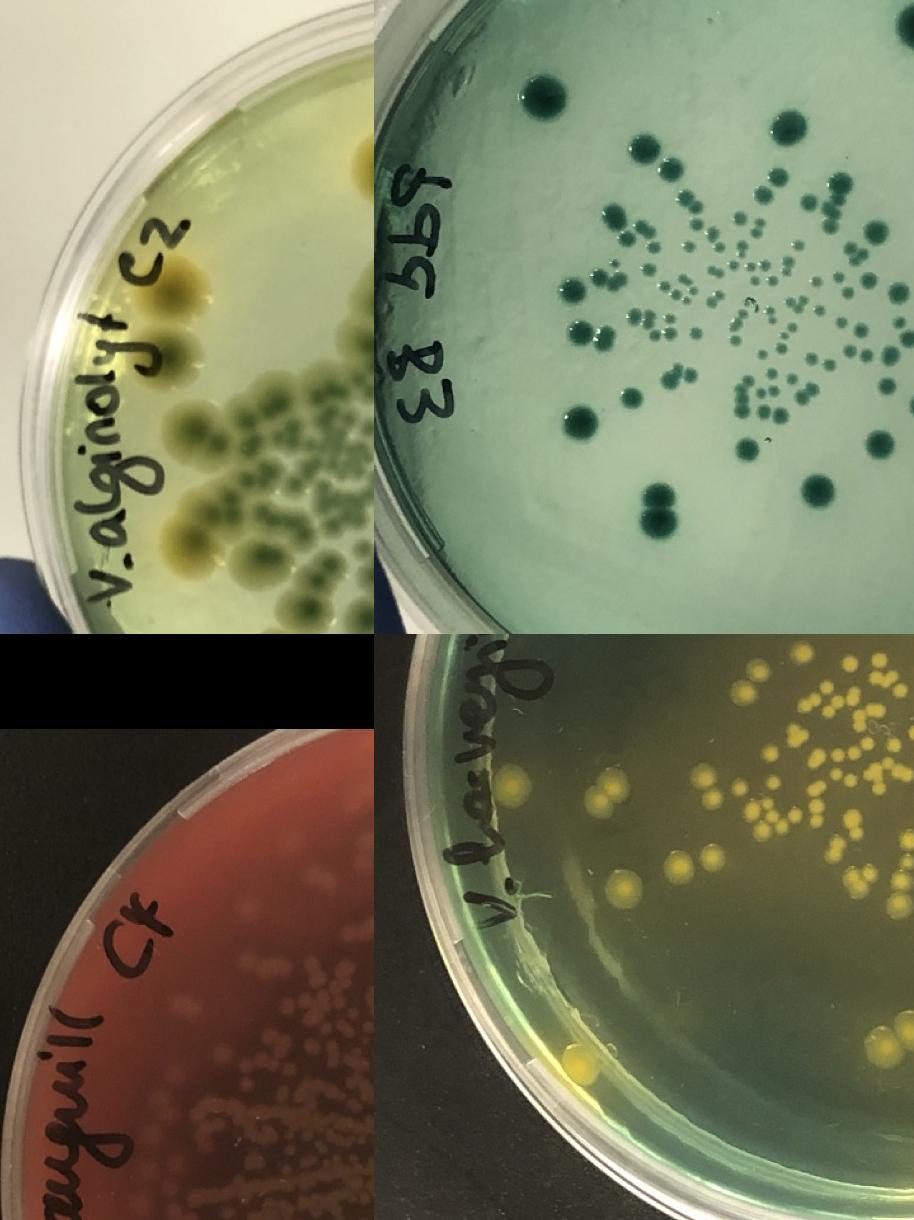pddamselae: (639, 480, 675, 538), (522, 78, 564, 118), (798, 189, 844, 222), (863, 425, 899, 459), (800, 473, 836, 507), (771, 110, 807, 144), (628, 130, 664, 164), (562, 406, 598, 440), (732, 373, 755, 416), (674, 186, 703, 214), (828, 172, 852, 205), (897, 2, 914, 46), (776, 321, 799, 353), (864, 220, 888, 242), (750, 183, 774, 205), (796, 382, 820, 403), (888, 282, 910, 304), (880, 344, 902, 366), (876, 375, 898, 397), (858, 266, 880, 288), (768, 165, 790, 187), (736, 440, 758, 462), (660, 159, 682, 181), (620, 386, 642, 408), (602, 203, 624, 225), (593, 328, 615, 350), (568, 322, 590, 344), (562, 280, 584, 302), (784, 294, 810, 312), (669, 287, 692, 306), (706, 288, 726, 308), (634, 218, 654, 238), (848, 248, 870, 266), (731, 307, 749, 328), (897, 327, 914, 349), (604, 272, 627, 288), (746, 257, 770, 272), (750, 217, 766, 238), (706, 264, 728, 279), (780, 255, 794, 276), (618, 230, 636, 246), (642, 309, 656, 329), (906, 389, 914, 423), (764, 305, 778, 324), (736, 238, 748, 257), (892, 316, 906, 328), (860, 349, 874, 361), (842, 344, 856, 356), (774, 409, 788, 421), (764, 275, 778, 287), (764, 367, 778, 379), (756, 406, 770, 418), (706, 227, 720, 239), (688, 219, 702, 231), (682, 370, 696, 382), (664, 373, 678, 385), (855, 325, 867, 337), (844, 240, 856, 252), (842, 287, 854, 299), (834, 315, 846, 327), (832, 270, 844, 282), (823, 358, 835, 370), (814, 304, 826, 316), (809, 274, 821, 286), (805, 352, 817, 364), (792, 239, 804, 251), (786, 373, 798, 385), (768, 385, 780, 397), (756, 349, 768, 361), (754, 387, 766, 399), (749, 274, 761, 286), (734, 212, 746, 224), (730, 334, 742, 346), (726, 258, 738, 270), (713, 241, 725, 253), (689, 327, 701, 339), (688, 284, 700, 296), (682, 239, 694, 251), (678, 272, 690, 284), (672, 361, 684, 373), (663, 311, 675, 323), (663, 326, 675, 338), (658, 280, 670, 292), (649, 328, 661, 340), (648, 240, 660, 252), (642, 263, 654, 275), (628, 309, 640, 321), (608, 256, 620, 268)
valgino: (129, 326, 199, 388), (135, 258, 204, 320), (230, 534, 290, 594), (353, 130, 374, 204)
vangil: (256, 1052, 296, 1075), (346, 1006, 360, 1020), (345, 1076, 359, 1090), (260, 1030, 274, 1044), (360, 1021, 374, 1034), (298, 992, 312, 1005), (304, 1040, 318, 1052), (320, 1021, 332, 1034)
vharveyi: (582, 766, 633, 823), (869, 1015, 914, 1065), (742, 794, 779, 842), (690, 764, 726, 810), (840, 862, 882, 899), (604, 869, 644, 907), (560, 1045, 600, 1083), (493, 768, 528, 806), (822, 684, 860, 718), (889, 869, 914, 917), (697, 839, 732, 873), (774, 802, 806, 836), (661, 850, 693, 884), (864, 762, 886, 794), (843, 807, 863, 838), (898, 826, 914, 864), (786, 723, 810, 748), (790, 640, 814, 664), (747, 656, 771, 680), (733, 680, 757, 704), (830, 746, 864, 762), (870, 669, 898, 688), (826, 836, 846, 862), (797, 692, 821, 712), (764, 771, 784, 793), (761, 742, 781, 764), (729, 774, 749, 796), (810, 798, 825, 827), (805, 778, 828, 796), (840, 653, 859, 673), (886, 734, 904, 754), (870, 649, 888, 669), (810, 745, 828, 765), (898, 763, 914, 783), (853, 708, 866, 730), (842, 773, 858, 787), (860, 735, 876, 748), (900, 854, 914, 868), (828, 766, 842, 780), (820, 679, 834, 693), (882, 755, 896, 767), (895, 685, 907, 697), (866, 703, 878, 715), (907, 722, 914, 742)
